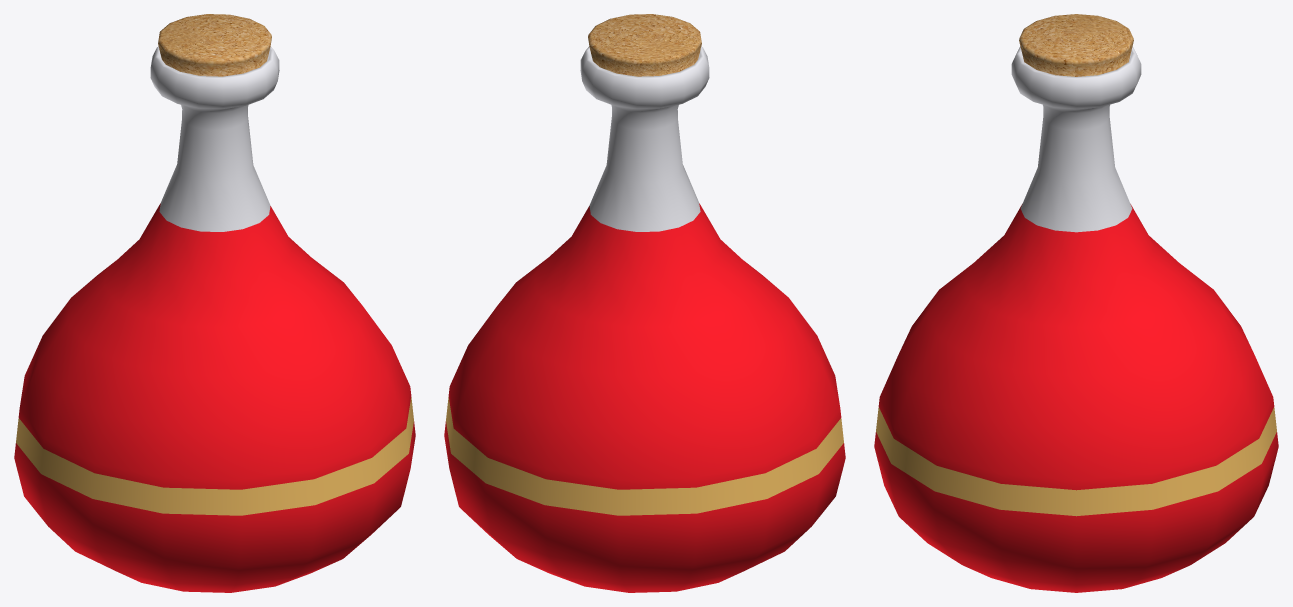
The model's file is health_potion.glb.
The picture shows the model from 3 angles, left to right: view 1: azimuth 30°, elevation 25°; view 2: azimuth 150°, elevation 25°; view 3: azimuth 270°, elevation 25°; orthographic projection.
Visible parts, largest first — view 1: Pot; view 2: Pot; view 3: Pot.
Boxes of the visible parts, bbox=[...] form: Pot: bbox=[14, 14, 415, 592]; Pot: bbox=[444, 14, 845, 592]; Pot: bbox=[874, 14, 1278, 592].
Size of the model in its own units: 0.2178 by 0.3 by 0.2178.
Materials: 4 (1 with a texture image).
